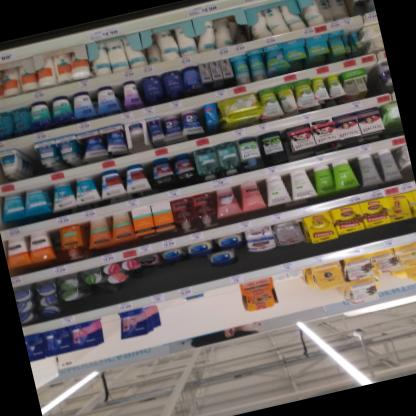empty_space: (204, 285, 248, 332), (154, 299, 190, 344), (99, 313, 128, 357), (18, 144, 42, 179)
